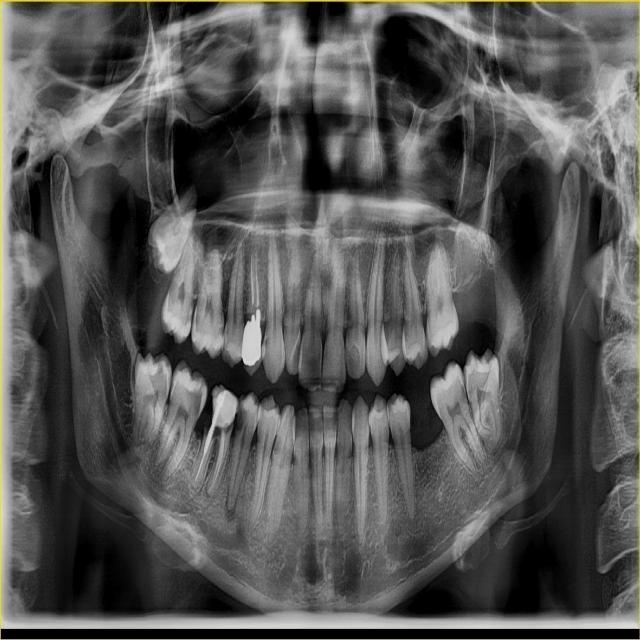Caries: (189, 385, 203, 418), (236, 400, 248, 433), (461, 386, 469, 404)
Crown: (242, 310, 262, 367), (213, 384, 237, 429)
Missing teeth: (406, 385, 446, 449)
Periapical lesion: (222, 488, 238, 524), (118, 434, 128, 452)
Root Canal Treatment: (208, 430, 226, 491), (255, 256, 261, 310), (196, 452, 205, 479), (251, 256, 254, 316)
impacted tooth: (128, 354, 170, 455), (151, 186, 199, 270), (465, 352, 504, 450)
